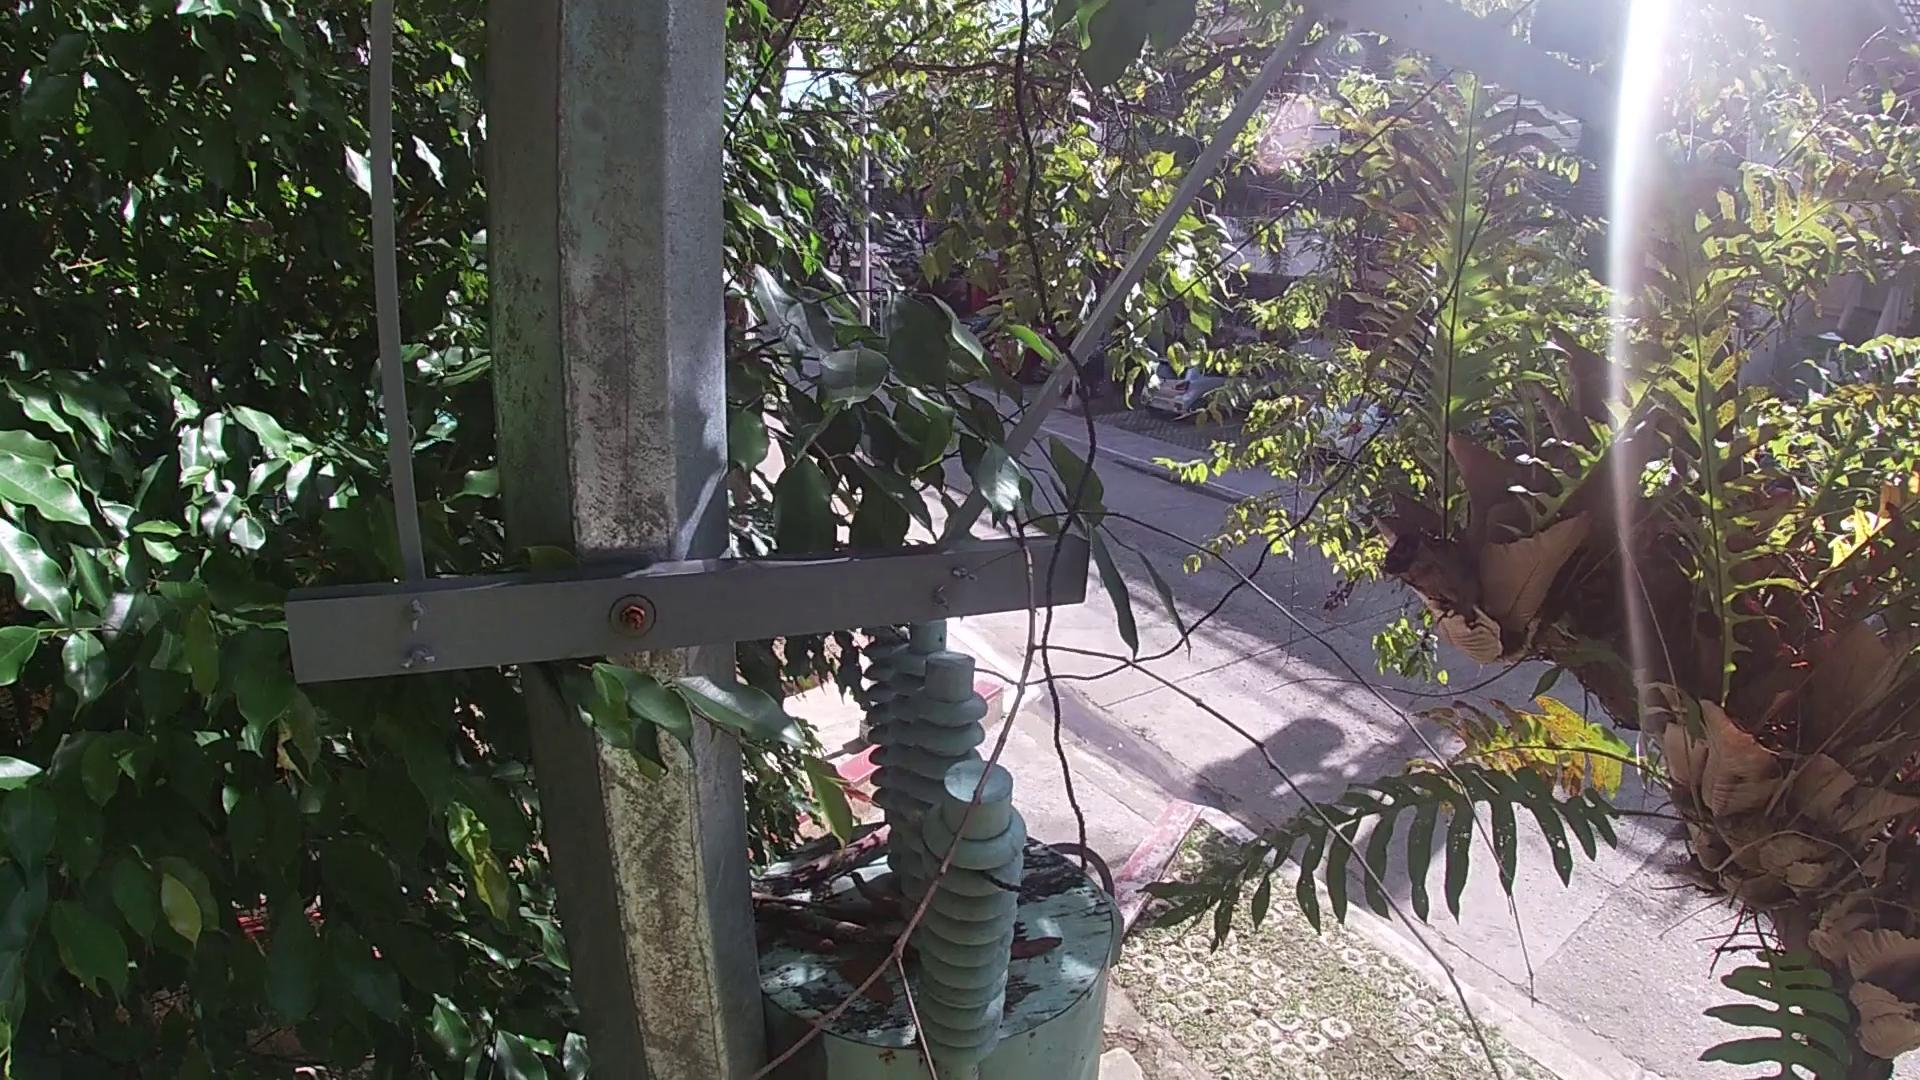leaf: (827, 963, 897, 1015)
mahogany fruit: (1004, 932, 1068, 972), (847, 876, 895, 906)
tree branch: (749, 493, 1538, 1071), (762, 823, 901, 897), (742, 909, 891, 951), (737, 901, 852, 916)
